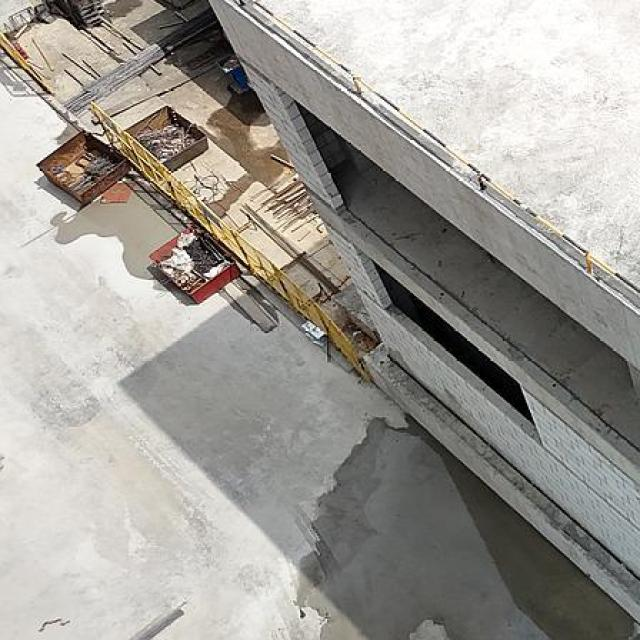edge_guardrail: (248, 0, 640, 294)
